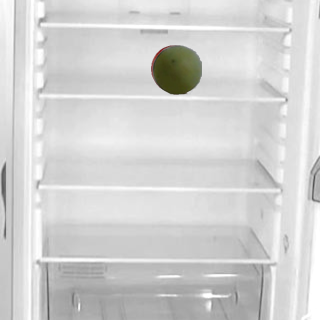Apple Braeburn: (150, 44, 200, 94)
Grape White 4: (151, 44, 201, 94)
